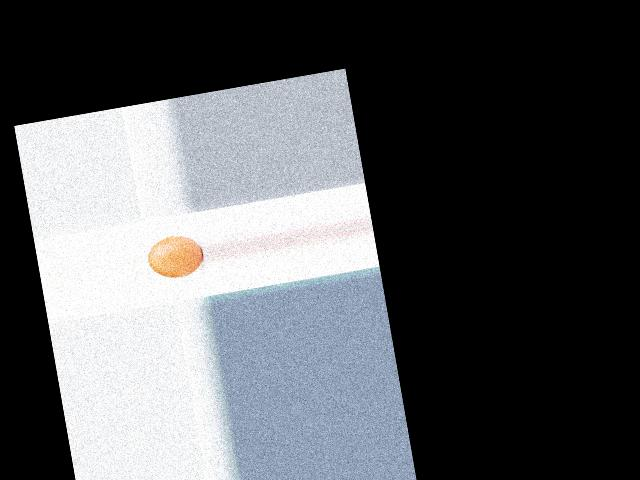egg: (145, 232, 205, 282)
